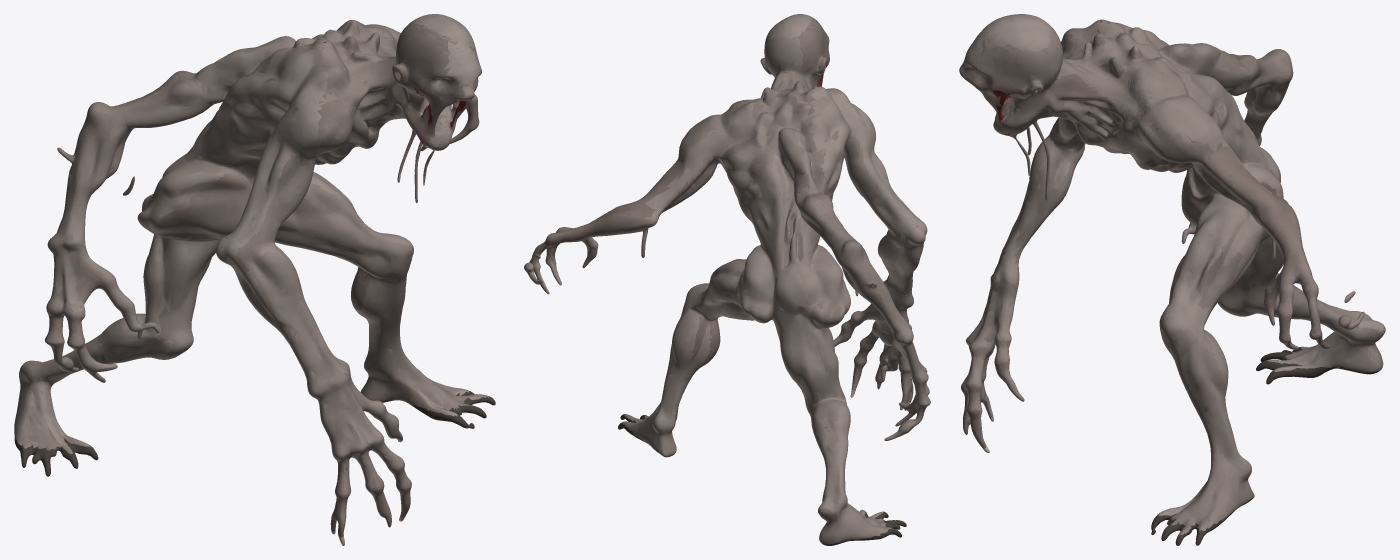
File: imitator_generated_v3.glb
The picture shows the model from 3 angles, left to right: view 1: azimuth 30°, elevation 25°; view 2: azimuth 150°, elevation 25°; view 3: azimuth 270°, elevation 25°; orthographic projection. The views are drawn at different scales.
Visible parts, largest first — view 1: Imitator_Generated; view 2: Imitator_Generated; view 3: Imitator_Generated.
Part boxes in pixels (left/top/right/bottom): Imitator_Generated: left=14, top=14, right=495, bottom=545; Imitator_Generated: left=524, top=14, right=930, bottom=545; Imitator_Generated: left=959, top=14, right=1385, bottom=545.
Size of the model in its own units: 2.23 by 2.23 by 1.84.
Materials: 4 (1 with a texture image).
